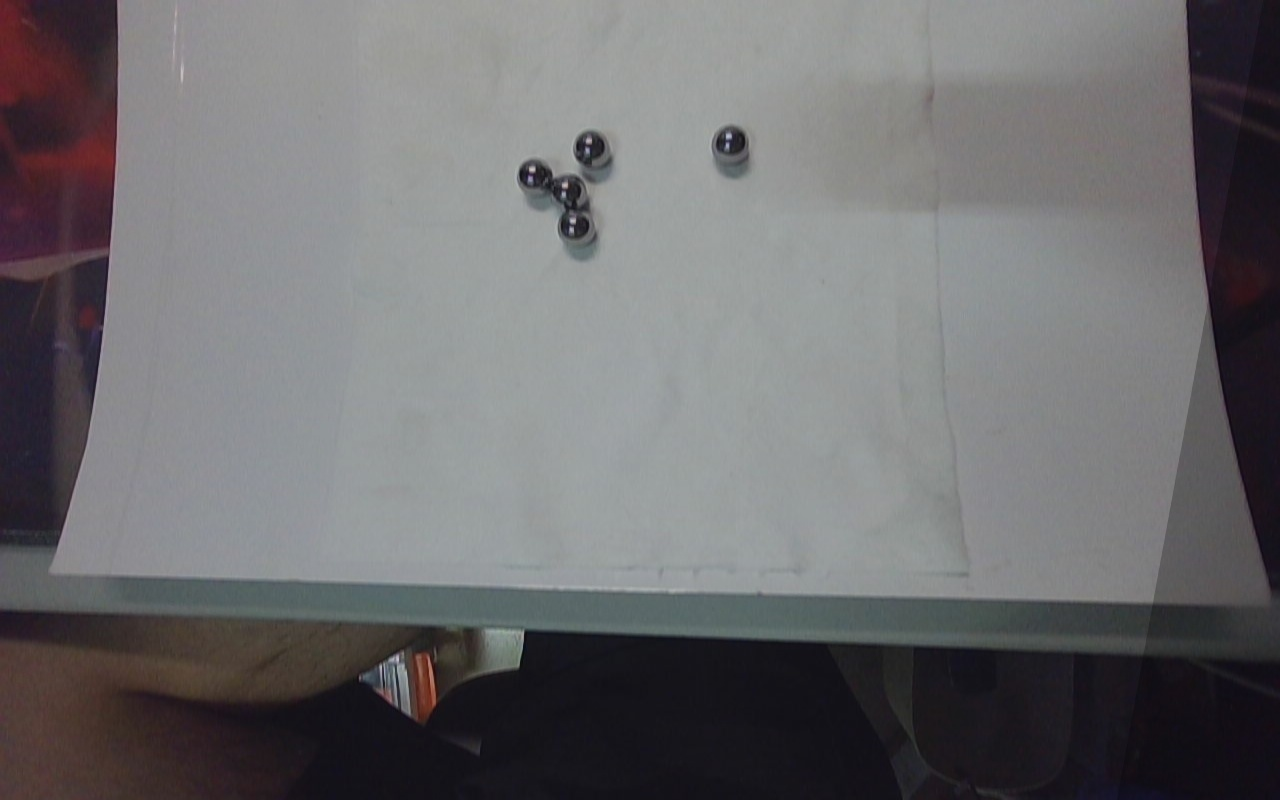ball: (513, 154, 557, 202), (546, 170, 592, 214), (709, 123, 753, 169), (571, 126, 613, 173), (555, 209, 598, 251)
